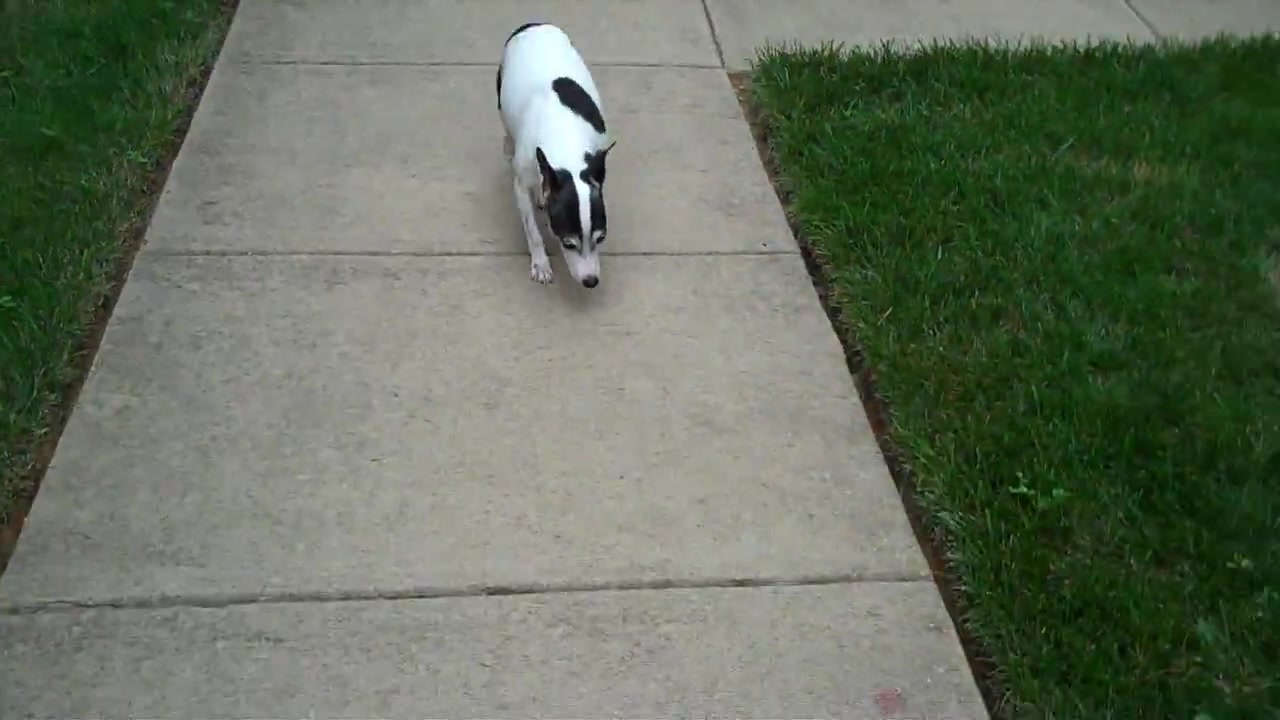dog: (496, 22, 616, 290)
